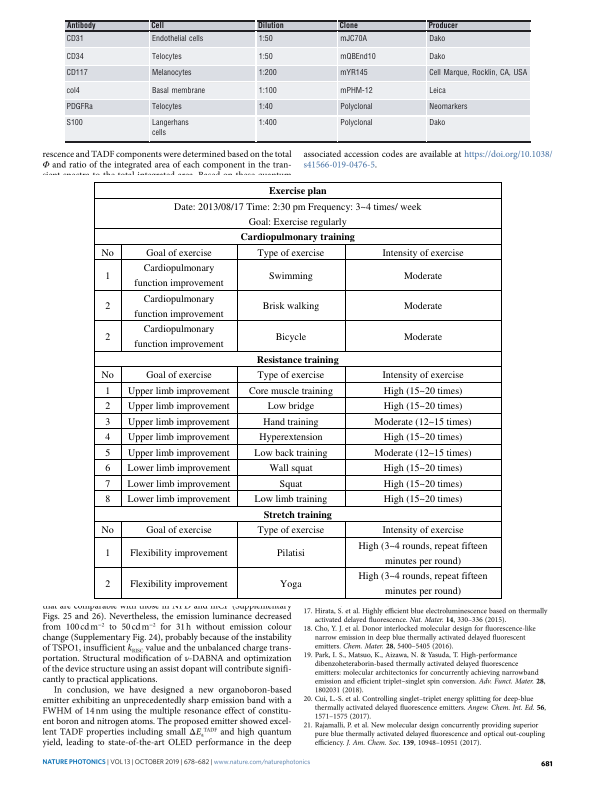bordered: (93, 180, 501, 598)
borderless: (65, 19, 531, 141)
cell: (172, 200, 422, 228), (357, 569, 488, 598), (357, 539, 488, 567), (133, 261, 224, 290), (133, 292, 224, 320), (133, 323, 224, 351), (239, 230, 355, 244), (126, 461, 231, 475), (126, 399, 230, 413), (126, 477, 231, 490), (126, 493, 231, 506), (126, 384, 230, 397), (126, 415, 230, 428), (126, 431, 230, 444), (126, 446, 230, 459), (373, 415, 472, 428), (373, 446, 472, 459), (129, 547, 228, 560), (129, 577, 228, 590), (381, 368, 464, 382), (382, 399, 463, 413), (382, 461, 463, 475), (247, 384, 333, 397), (255, 353, 339, 366), (381, 246, 464, 259), (381, 524, 464, 537), (382, 384, 463, 397), (382, 431, 463, 444), (382, 477, 463, 490), (382, 493, 463, 506), (428, 68, 528, 78), (253, 446, 328, 459), (253, 493, 328, 506), (256, 368, 325, 382), (145, 368, 212, 382), (262, 508, 332, 521), (256, 246, 325, 259), (256, 524, 325, 537), (145, 246, 212, 259), (145, 524, 212, 537), (258, 431, 323, 444), (267, 184, 327, 198), (261, 299, 320, 313), (150, 118, 189, 138), (262, 415, 319, 428), (266, 399, 315, 413), (268, 461, 313, 475), (267, 269, 313, 282), (402, 299, 443, 313), (402, 269, 443, 282), (402, 330, 443, 343), (150, 86, 206, 95), (150, 34, 204, 43), (274, 330, 307, 343), (150, 68, 192, 78), (428, 102, 468, 112), (275, 547, 305, 560), (339, 102, 373, 112), (339, 118, 373, 128), (339, 52, 376, 61), (278, 477, 303, 490), (150, 102, 182, 112), (278, 577, 302, 590), (65, 21, 96, 31), (427, 21, 458, 31), (339, 86, 373, 95), (339, 68, 368, 78), (150, 52, 182, 61), (256, 21, 284, 31), (65, 102, 93, 112), (339, 34, 367, 43), (65, 68, 88, 78), (338, 21, 358, 31), (257, 68, 277, 78), (257, 118, 277, 128), (100, 368, 114, 382), (100, 246, 114, 259), (100, 524, 114, 537), (257, 86, 277, 95), (65, 118, 83, 128), (428, 118, 446, 128), (65, 34, 84, 43), (65, 52, 84, 61), (428, 34, 446, 43), (428, 52, 446, 61), (428, 86, 446, 95), (257, 102, 273, 112), (257, 34, 273, 43), (257, 52, 273, 61), (150, 21, 164, 31), (65, 86, 80, 95), (104, 299, 111, 313), (104, 399, 111, 413), (104, 461, 111, 475), (104, 269, 111, 282), (104, 330, 111, 343), (104, 384, 111, 397), (104, 415, 111, 428), (104, 431, 111, 444), (104, 446, 111, 459), (104, 477, 111, 490), (104, 493, 111, 506), (104, 547, 111, 560), (104, 577, 111, 590)
